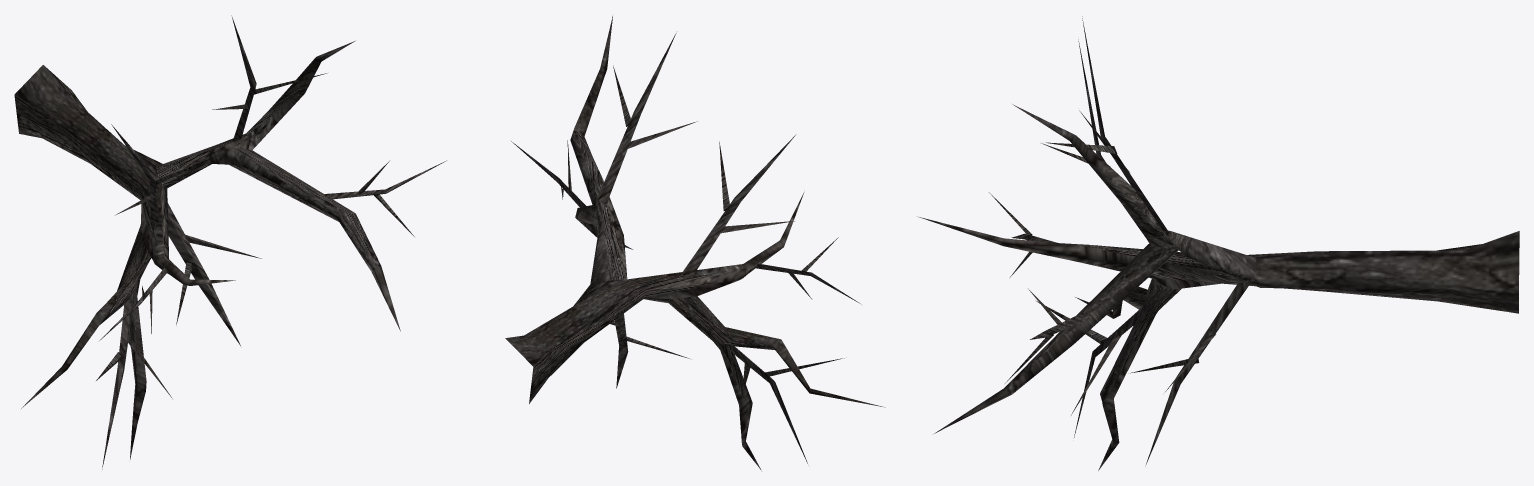
File: Tree03.glb
3 renders of one model, left to right at view 1: azimuth 30°, elevation 25°; view 2: azimuth 150°, elevation 25°; view 3: azimuth 270°, elevation 25°, orthographic. The views are drawn at different scales.
Visible parts, largest first — view 1: model_Tree03; view 2: model_Tree03; view 3: model_Tree03.
Part boxes in pixels (x1=…): model_Tree03: x1=14, y1=15, x2=446, y2=469; model_Tree03: x1=505, y1=16, x2=885, y2=470; model_Tree03: x1=919, y1=16, x2=1519, y2=470.
Bounding box in the file's own units: 5.05 × 5.05 × 5.38.
Materials: 1 (1 with a texture image).
